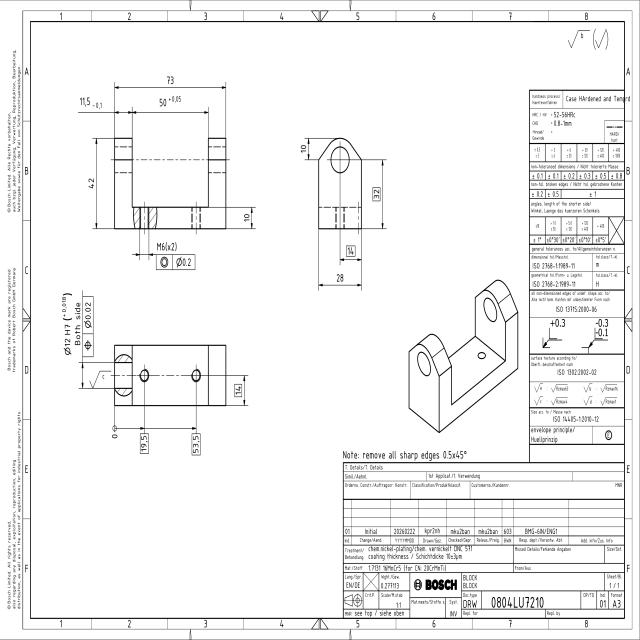dimension: (112, 76, 228, 95), (131, 94, 211, 120), (77, 95, 134, 120), (85, 136, 99, 231), (62, 292, 82, 357), (371, 157, 385, 231), (131, 240, 179, 260), (316, 273, 364, 290), (338, 244, 364, 264), (234, 373, 246, 408), (298, 136, 313, 162), (243, 205, 255, 231), (191, 431, 201, 457), (140, 432, 150, 456), (111, 424, 118, 439)
